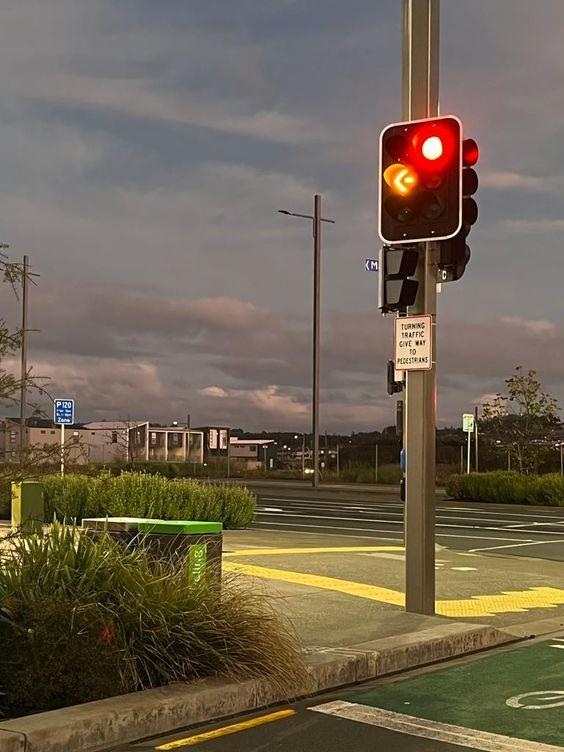red: (412, 118, 456, 236)
